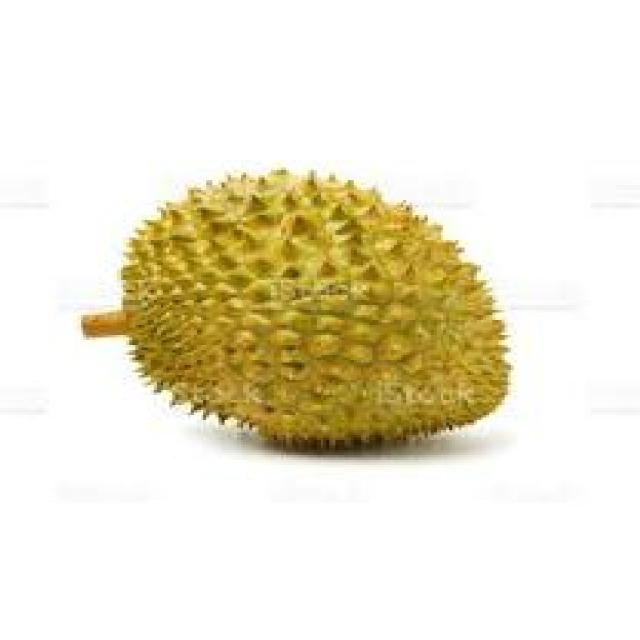agrume: (120, 140, 535, 472)
